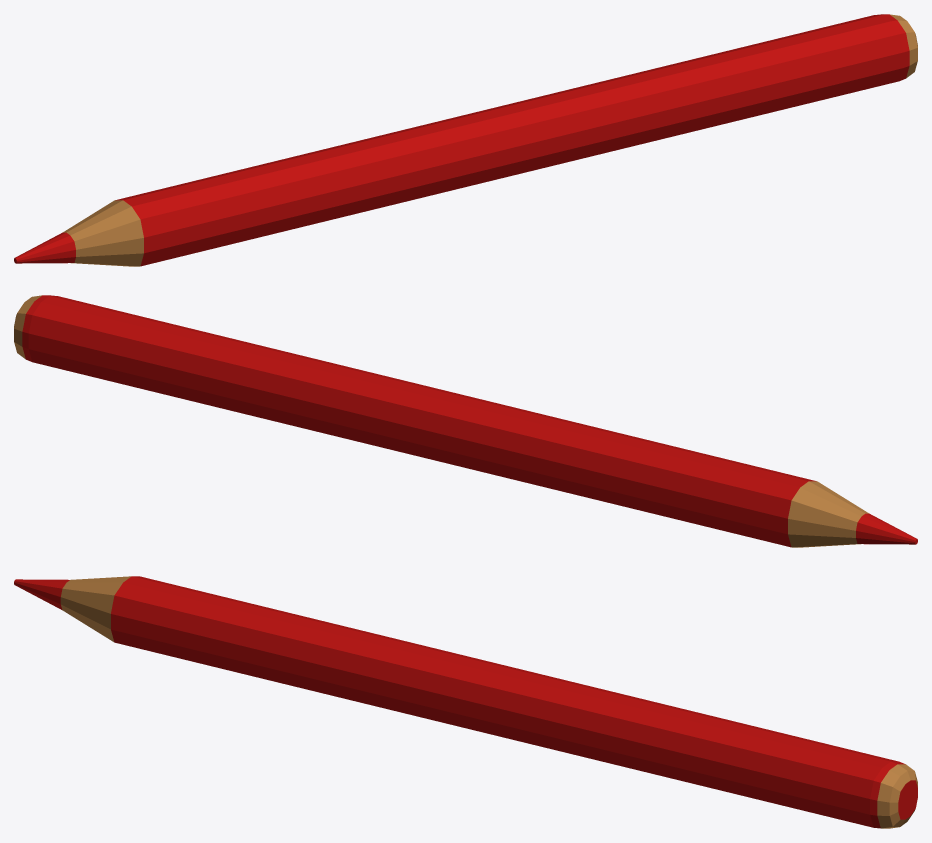
The picture shows the model from 3 angles, top to bottom: view 1: azimuth 30°, elevation 25°; view 2: azimuth 150°, elevation 25°; view 3: azimuth 330°, elevation 25°; orthographic projection.
Parts seen in each view (by area): view 1: F-34; view 2: F-34; view 3: F-34.
Boxes of the visible parts, x1,y1,x2,y2 form: F-34: [14, 14, 917, 266]; F-34: [14, 295, 917, 547]; F-34: [14, 576, 917, 828].
Size of the model in its own units: 92.68 by 5.96 by 5.96.
